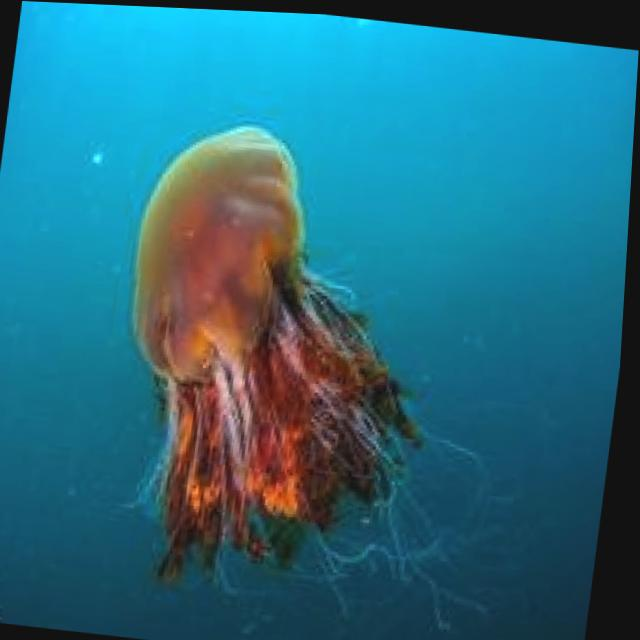Jellyfish: (95, 107, 464, 607)
